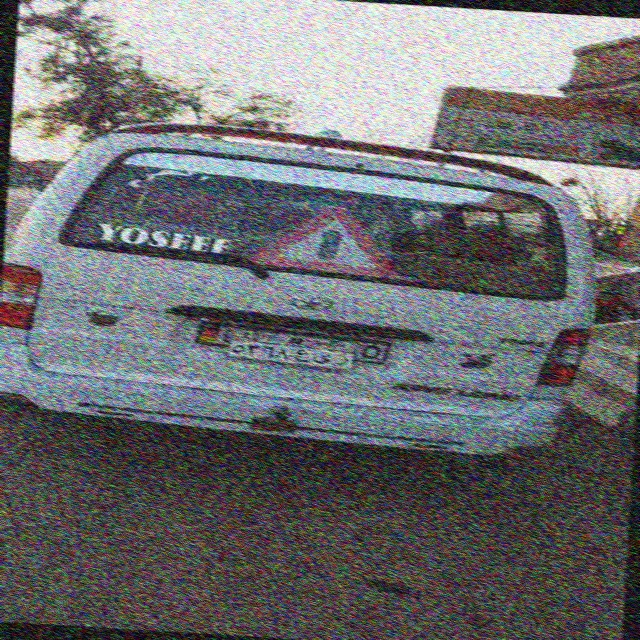License Plate: (223, 326, 360, 372)
